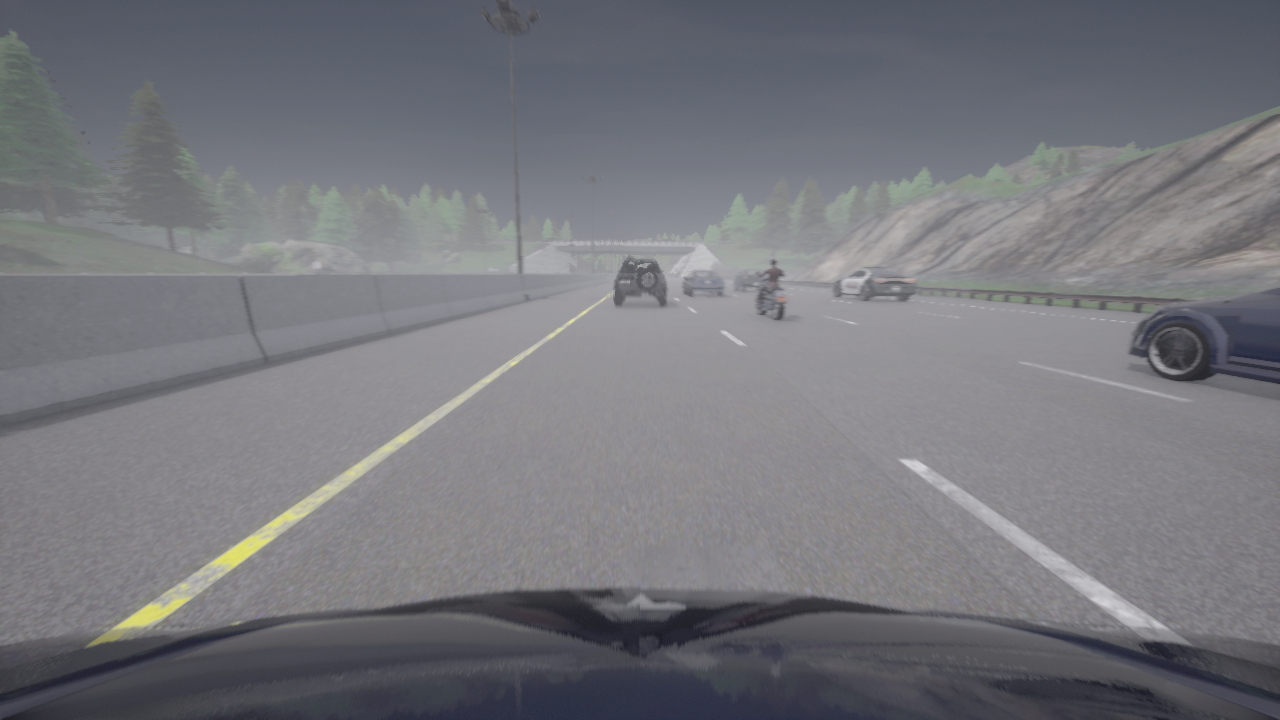cyclist: (0, 588, 1279, 719), (1126, 286, 1279, 384), (832, 266, 917, 301), (614, 257, 665, 305), (755, 271, 788, 321), (683, 270, 723, 295), (733, 269, 764, 291)
